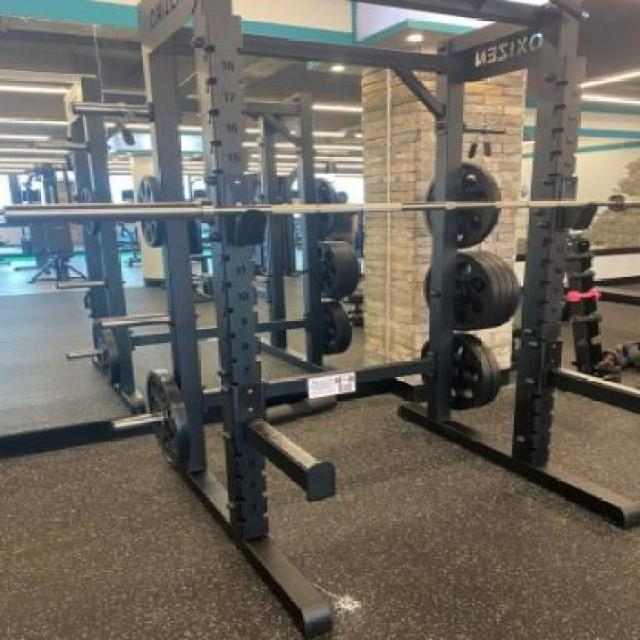smith machine: (114, 0, 640, 640)
